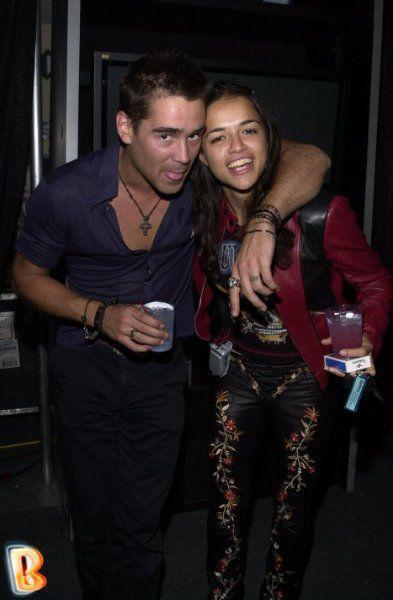Drunk: (143, 93, 200, 192), (205, 102, 271, 186)
